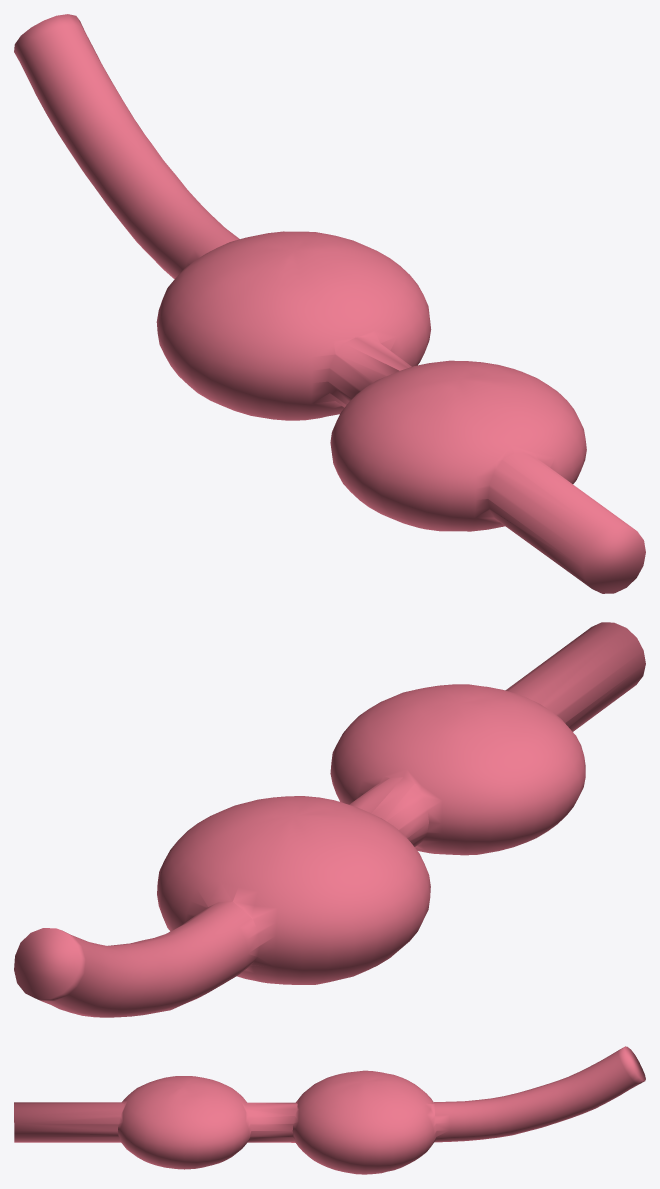
The model's file is stage_heart2.glb.
3 views of the same model, one above another, from view 1: azimuth 30°, elevation 25°; view 2: azimuth 150°, elevation 25°; view 3: azimuth 270°, elevation 25° (orthographic). The views are drawn at different scales.
Parts seen in each view (by area): view 1: HeartRooms; view 2: HeartRooms; view 3: HeartRooms.
Boxes of the visible parts, x1,y1,x2,y2 form: HeartRooms: (14,14,645,593); HeartRooms: (14,622,645,1017); HeartRooms: (14,1046,645,1174).
Bounding box in the file's own units: 30.03 × 25.43 × 126.
